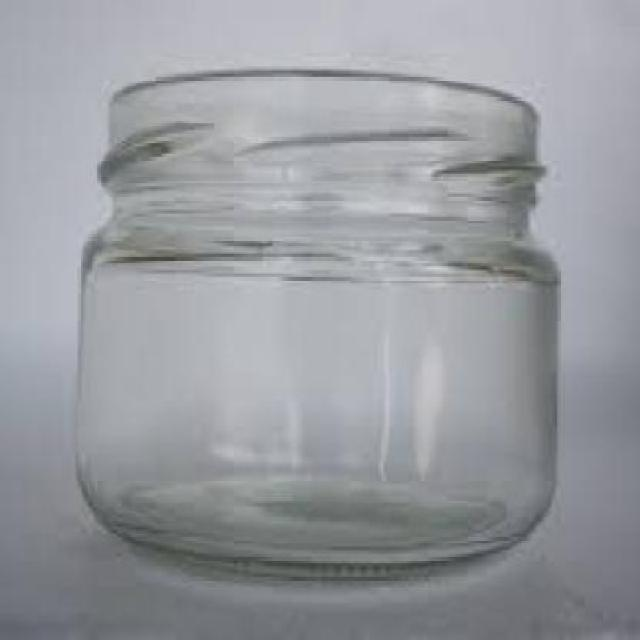kaca: (74, 71, 555, 571)
